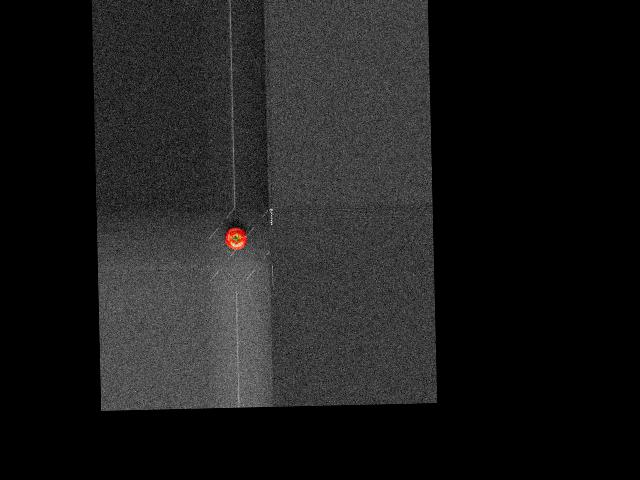tomato: (225, 227, 247, 250)
